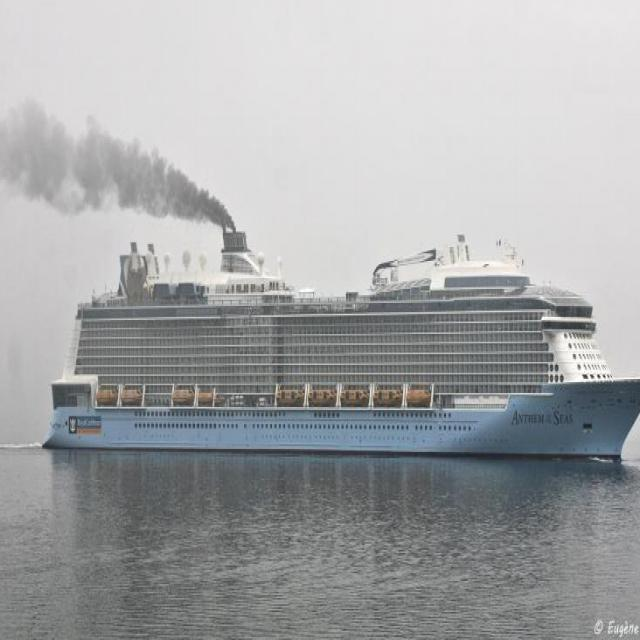cruises: (38, 220, 640, 473)
